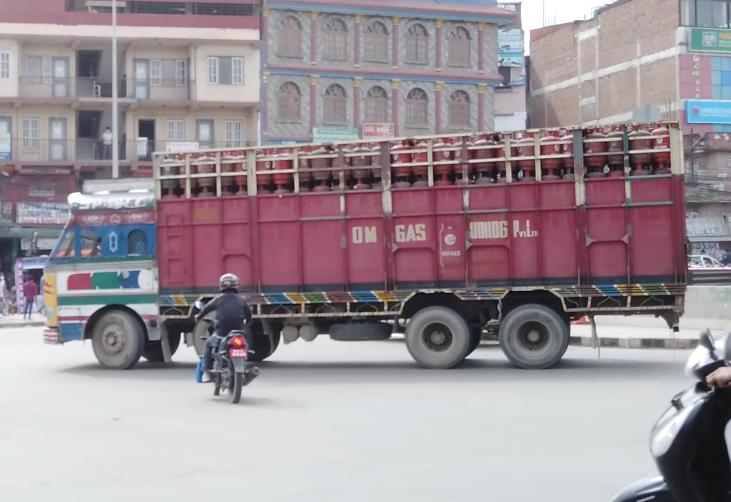bike: (195, 316, 259, 403)
truck: (40, 118, 690, 371)
